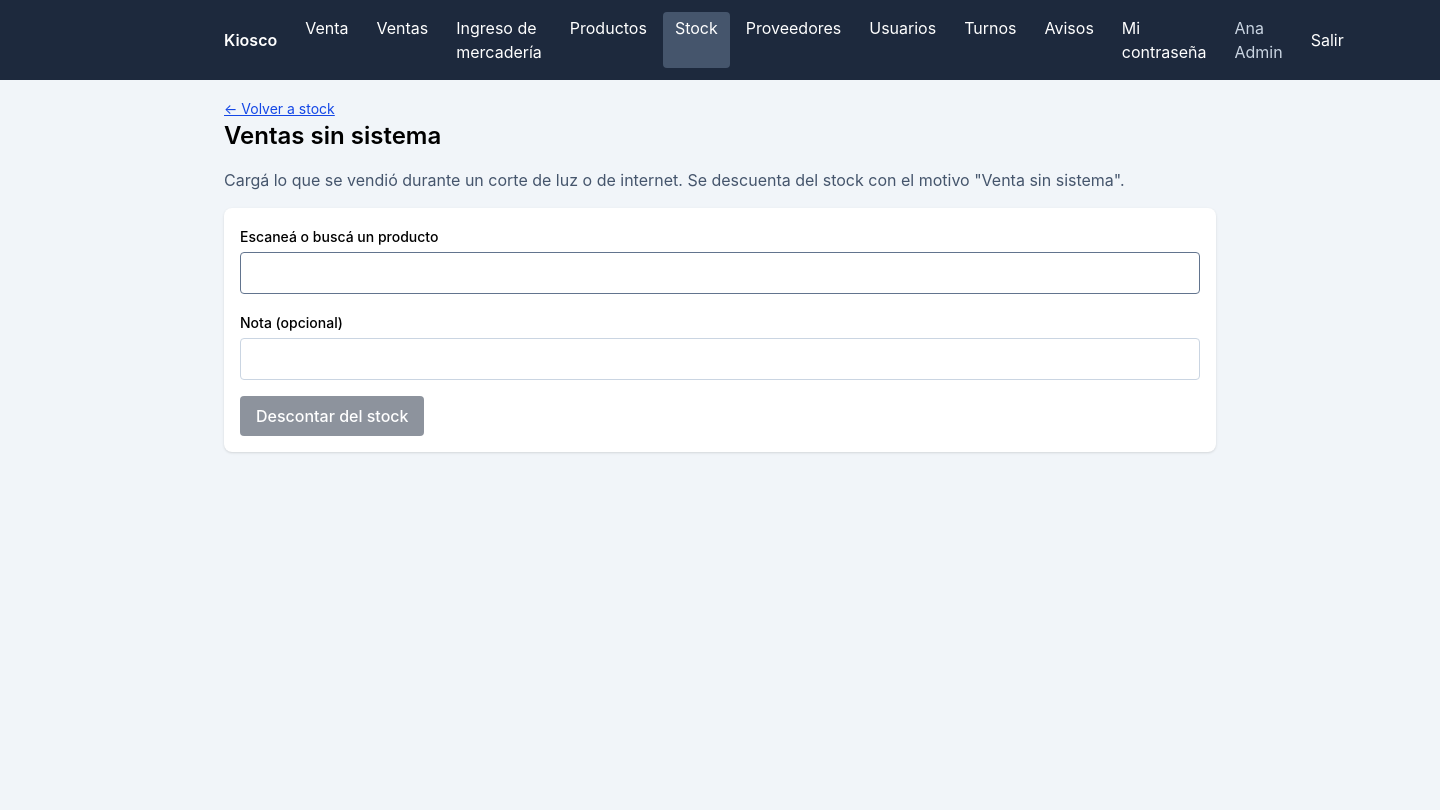
Test: ventas sin sistema › carga varios productos y descuenta todo junto
Type "7790001" into the dropdown labelled "Escaneá o buscá un producto" at x=720, y=273, box x1=240 y1=252 x2=1200 y2=294
Then press Enter
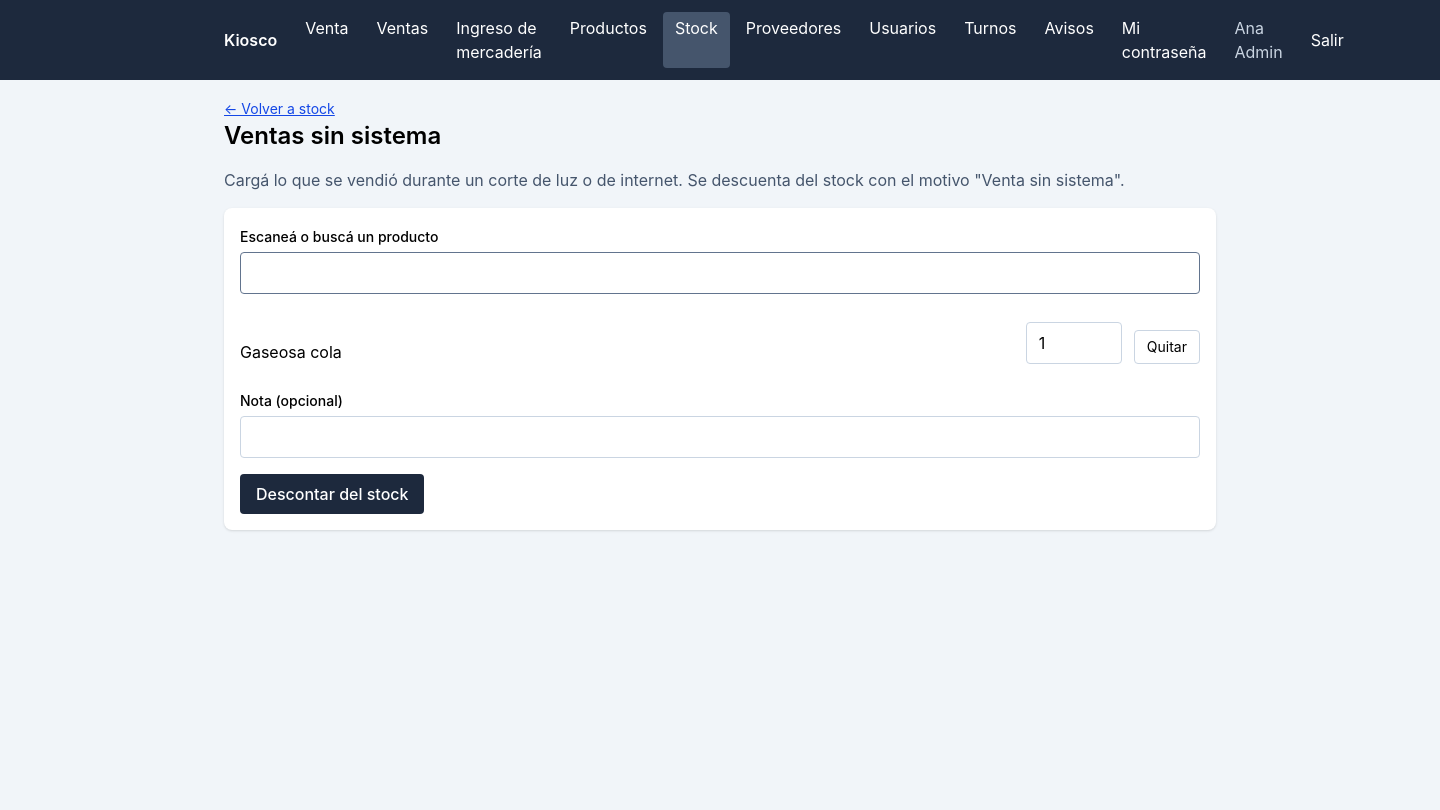
Expected: the text "Gaseosa cola" is shown, x1=240 y1=342 x2=342 y2=362
Type "7790001" into the dropdown labelled "Escaneá o buscá un producto" at x=720, y=273, box x1=240 y1=252 x2=1200 y2=294
Then press Enter
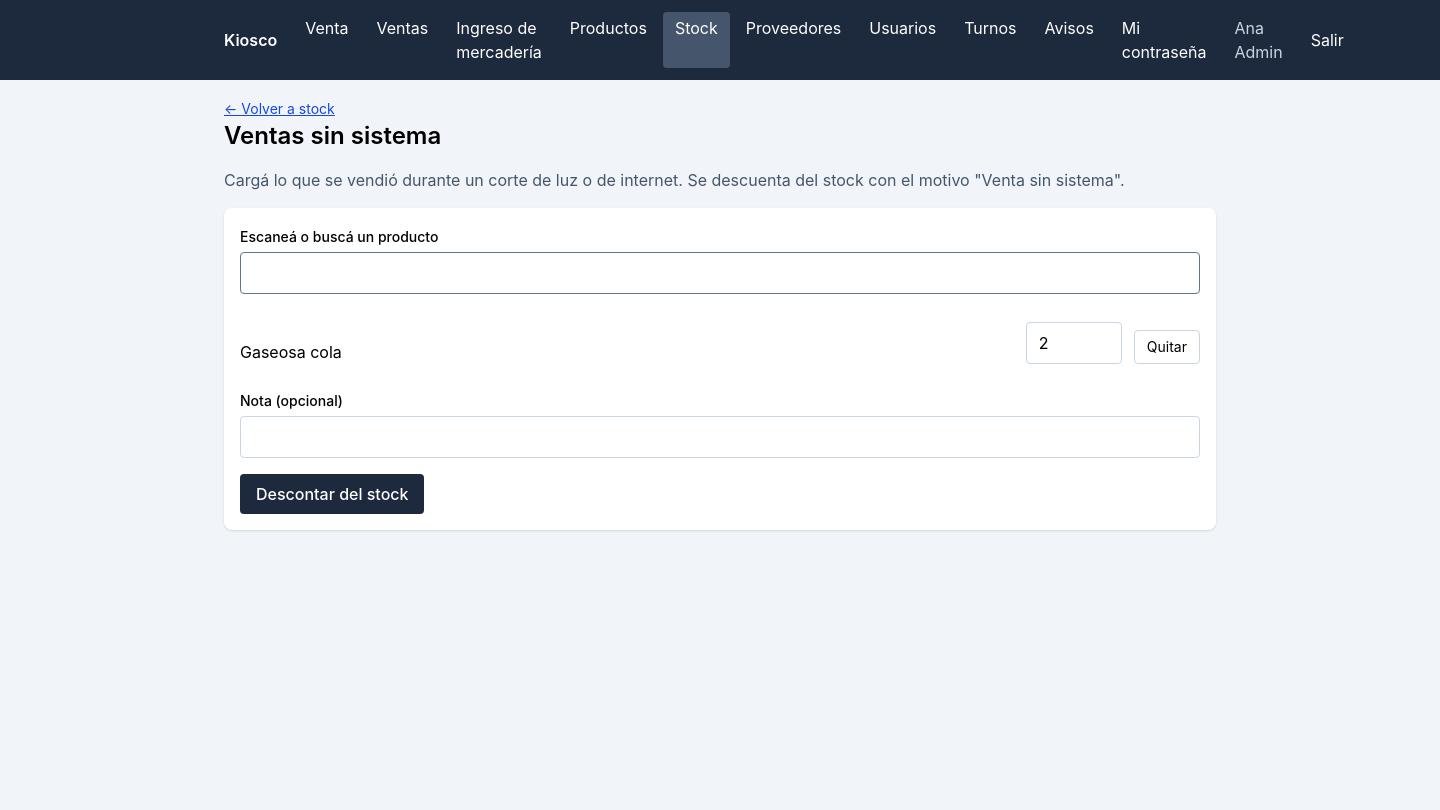
Type "7790002" into the dropdown labelled "Escaneá o buscá un producto" at x=720, y=273, box x1=240 y1=252 x2=1200 y2=294
Then press Enter
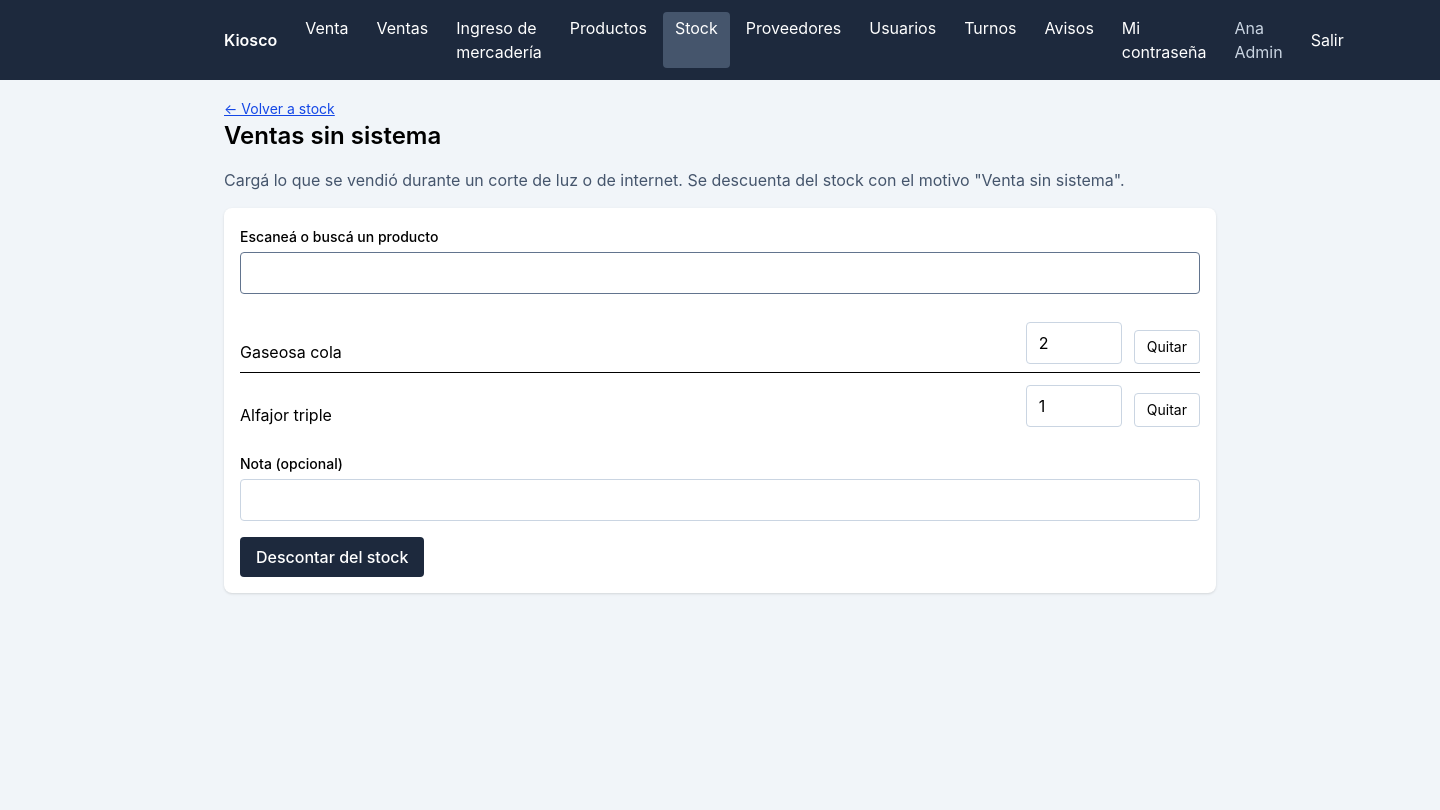
Expected: the text "Alfajor triple" is shown, x1=240 y1=405 x2=332 y2=425
Replace the text in the number field named "Cantidad de Alfajor triple" with "5" at x=1074, y=406, box x1=1026 y1=385 x2=1122 y2=427
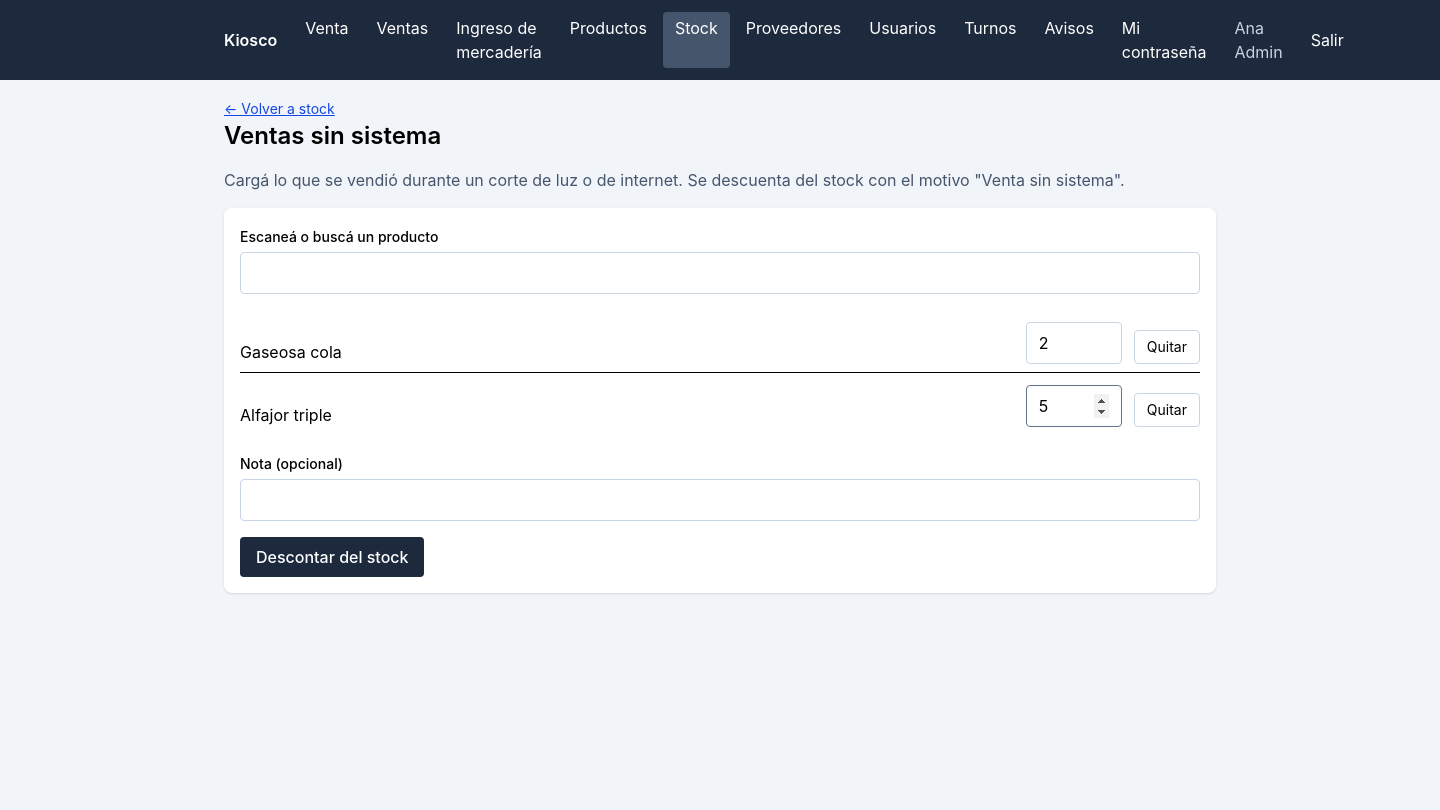
Type "Corte de luz" into the field labelled "Nota (opcional)" at x=720, y=500, box x1=240 y1=479 x2=1200 y2=521
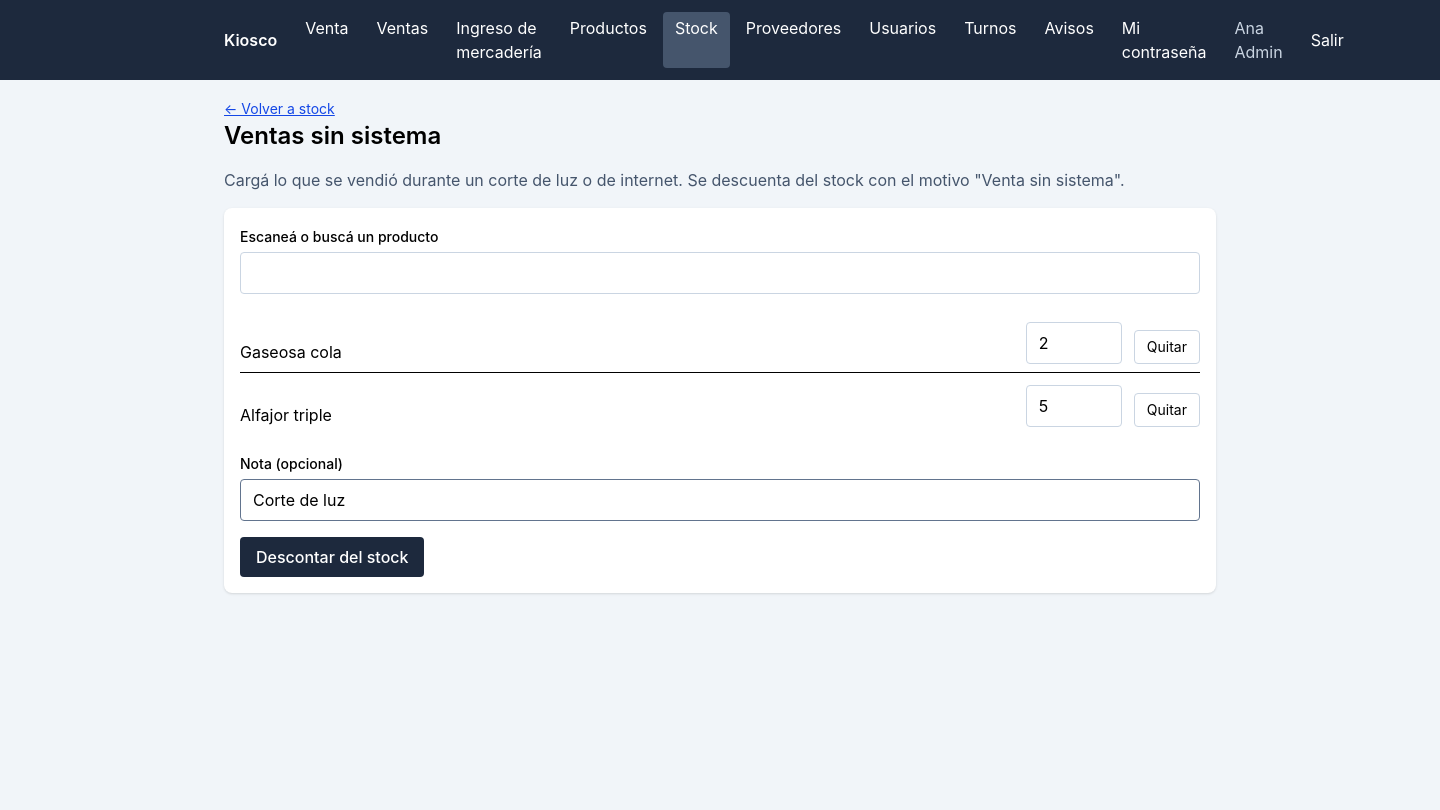
Click the button "Descontar del stock" at x=332, y=557, box x1=240 y1=537 x2=424 y2=577
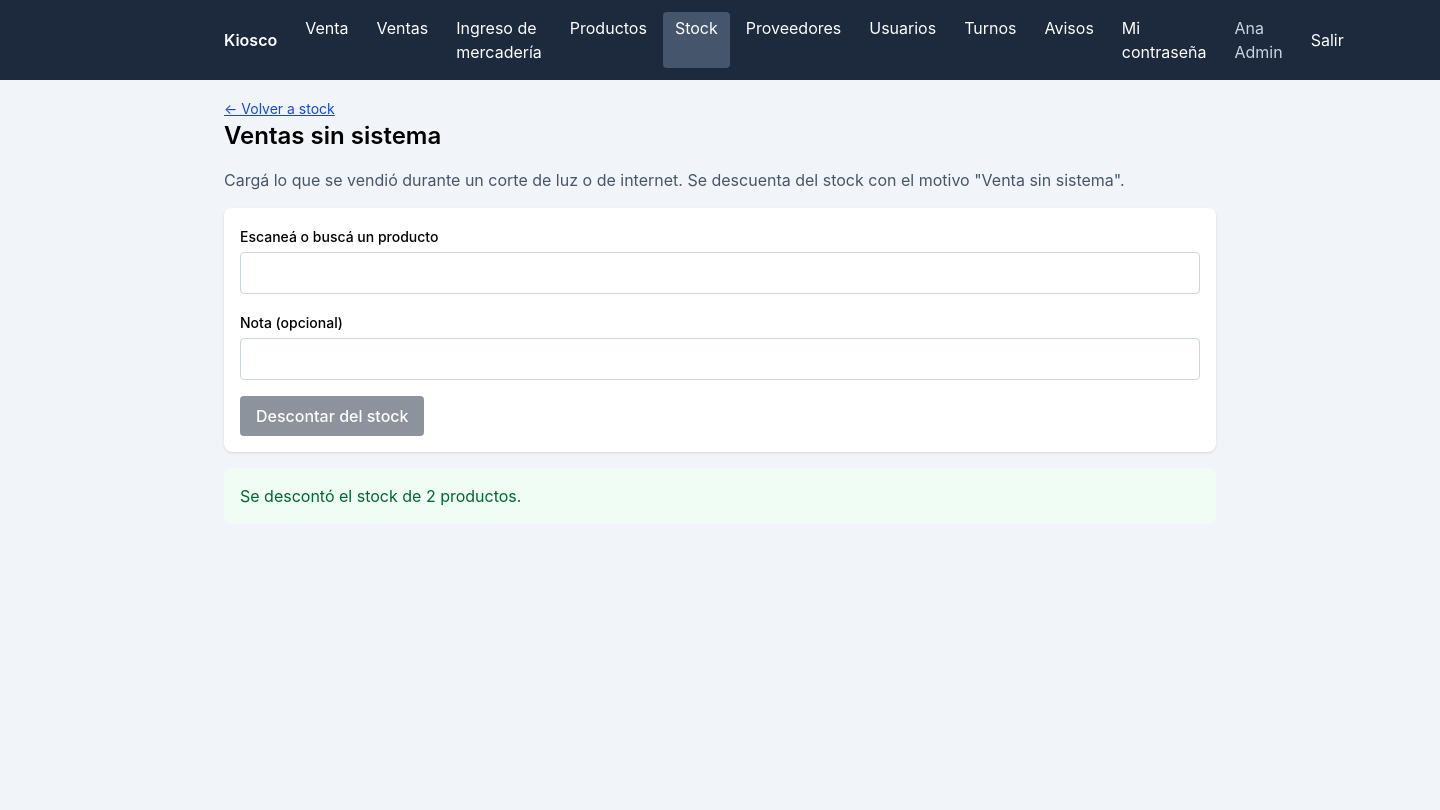
Expected: the message reads "Se descontó el stock de 2 productos.", x1=240 y1=486 x2=521 y2=506
